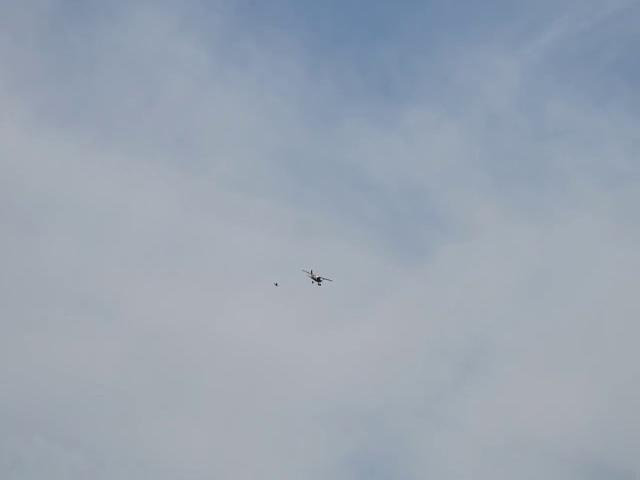Airplane: (302, 268, 334, 286)
